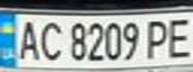0: (103, 18, 124, 62)
2: (84, 19, 106, 63)
8: (63, 18, 87, 62)
9: (121, 18, 145, 61)
A: (12, 17, 42, 62)
C: (36, 18, 66, 62)
E: (163, 15, 193, 60)
P: (142, 16, 172, 61)
